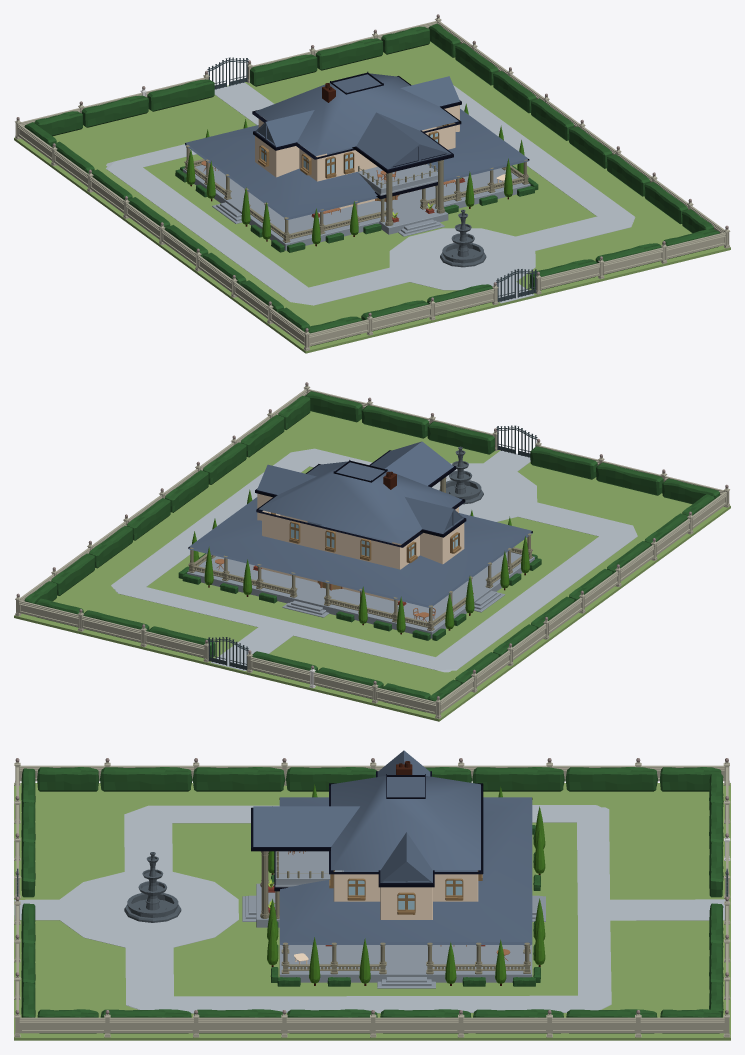
Rendered from low_poly_mansion__house.glb.
3 views of the same model, one above another, from view 1: azimuth 30°, elevation 25°; view 2: azimuth 150°, elevation 25°; view 3: azimuth 270°, elevation 25° (orthographic). The views are drawn at different scales.
Visible parts, largest first — view 1: Cube, Cylinder, Cube.031_Cube.513, Cube.031_Cube.512, Cube.031_Cube.002, Cube.031_Cube.781, Cube.031_Cube.514, Plane.006_Plane.001, Cube.031_Cube.1195, Cube.031_Cube.1192, Cube.031_Cube.1194, Cube.031_Cube.1193 (+16 smaller); view 2: Cube, Cube.031_Cube.513, Cylinder, Cube.031_Cube.512, Cube.031_Cube.781, Cube.031_Cube.002, Cube.031_Cube.109, Cube.031_Cube.1191, Cube.031_Cube.1189, Cube.031_Cube.1188, Cube.031_Cube.1190, Plane.006_Plane.001 (+15 smaller); view 3: Cube, Cylinder, Cube.031_Cube.513, Cube.031_Cube.512, Cube.031_Cube.002, Cube.031_Cube.109, Cube.031_Cube.1197, Cube.031_Cube.1201, Cube.031_Cube.1196, Cube.031_Cube.1200, Plane.006_Plane.001, Cube.031_Cube.514 (+32 smaller).
Boxes of the visible parts, bbox=[...] form: Cube: bbox=[14, 41, 730, 353]; Cylinder: bbox=[106, 82, 635, 305]; Cube.031_Cube.513: bbox=[185, 71, 529, 219]; Cube.031_Cube.512: bbox=[183, 165, 530, 250]; Cube.031_Cube.002: bbox=[352, 112, 453, 173]; Cube.031_Cube.781: bbox=[253, 110, 326, 177]; Cube.031_Cube.514: bbox=[358, 164, 437, 199]; Plane.006_Plane.001: bbox=[440, 209, 486, 267]; Cube.031_Cube.1195: bbox=[250, 54, 317, 86]; Cube.031_Cube.1192: bbox=[147, 79, 214, 111]; Cube.031_Cube.1194: bbox=[315, 38, 382, 70]; Cube.031_Cube.1193: bbox=[81, 95, 148, 127]; Cube: bbox=[14, 411, 730, 721]; Cube.031_Cube.513: bbox=[188, 460, 532, 607]; Cylinder: bbox=[111, 448, 637, 672]; Cube.031_Cube.512: bbox=[187, 552, 534, 638]; Cube.031_Cube.781: bbox=[392, 497, 466, 564]; Cube.031_Cube.002: bbox=[369, 441, 456, 487]; Cube.031_Cube.109: bbox=[255, 464, 321, 525]; Cube.031_Cube.1191: bbox=[427, 421, 494, 454]; Cube.031_Cube.1189: bbox=[596, 462, 663, 495]; Cube.031_Cube.1188: bbox=[530, 446, 597, 479]; Cube.031_Cube.1190: bbox=[361, 405, 429, 438]; Plane.006_Plane.001: bbox=[439, 446, 483, 504]; Cube: bbox=[14, 783, 730, 1040]; Cylinder: bbox=[14, 805, 728, 1013]; Cube.031_Cube.513: bbox=[279, 774, 532, 944]; Cube.031_Cube.512: bbox=[256, 883, 532, 982]; Cube.031_Cube.002: bbox=[251, 806, 359, 851]; Cube.031_Cube.109: bbox=[378, 832, 434, 919]; Cube.031_Cube.1197: bbox=[192, 767, 285, 791]; Cube.031_Cube.1201: bbox=[565, 767, 657, 791]; Cube.031_Cube.1196: bbox=[100, 767, 192, 791]; Cube.031_Cube.1200: bbox=[472, 767, 564, 791]; Plane.006_Plane.001: bbox=[124, 852, 181, 922]; Cube.031_Cube.514: bbox=[274, 851, 343, 891].
Bounding box in the file's own units: 4547 × 1104 × 5403.
